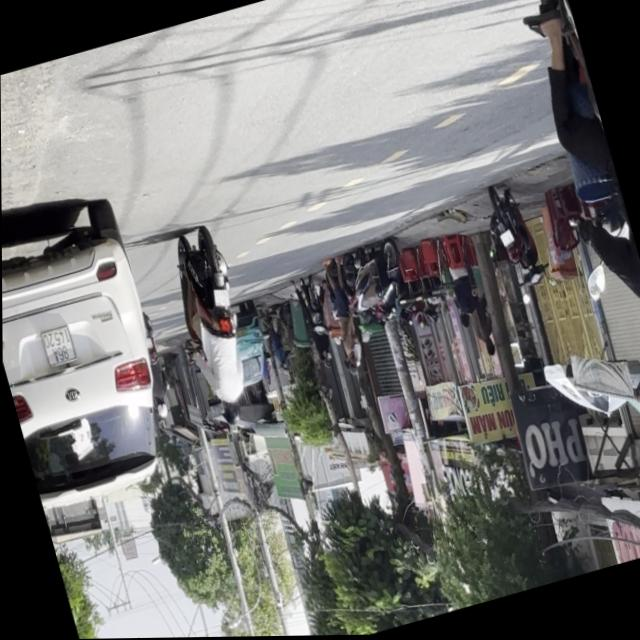helmet: (220, 399, 245, 431)
licenseplate: (161, 222, 269, 436)
nohelmet: (211, 287, 232, 311)
